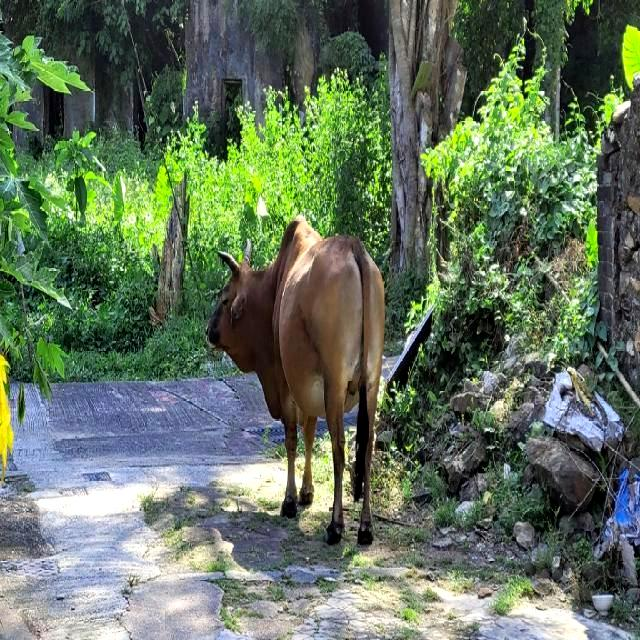COW: (208, 218, 384, 544)
